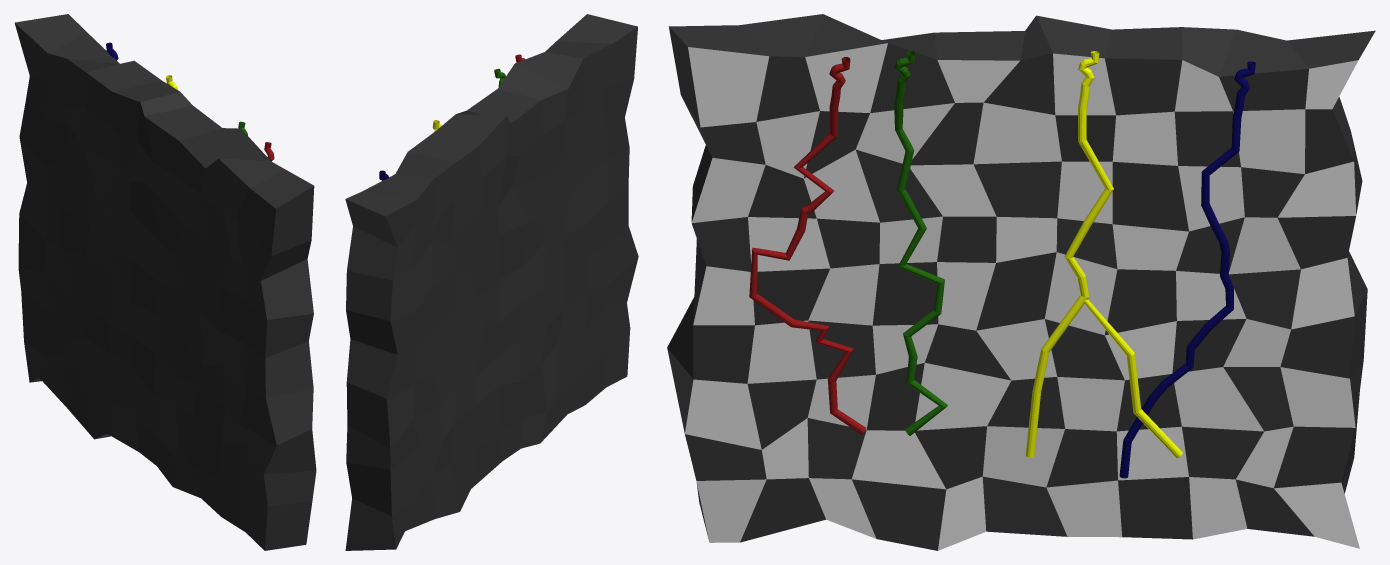
The model's file is THE WALL.fbx.
3 views of the same model, side by side, from view 1: azimuth 30°, elevation 25°; view 2: azimuth 150°, elevation 25°; view 3: azimuth 270°, elevation 25° (orthographic). The views are drawn at different scales.
Visible parts, largest first — view 1: Cube, Plane; view 2: Cube; view 3: Cube, Plane.
Boxes of the visible parts, x1,y1,x2,y2 form: Cube: (14, 14, 316, 550); Plane: (106, 42, 274, 161); Cube: (345, 14, 638, 550); Cube: (667, 14, 1375, 550); Plane: (749, 50, 1255, 478).
Size of the model in its own units: 301 by 1526 by 1929.
